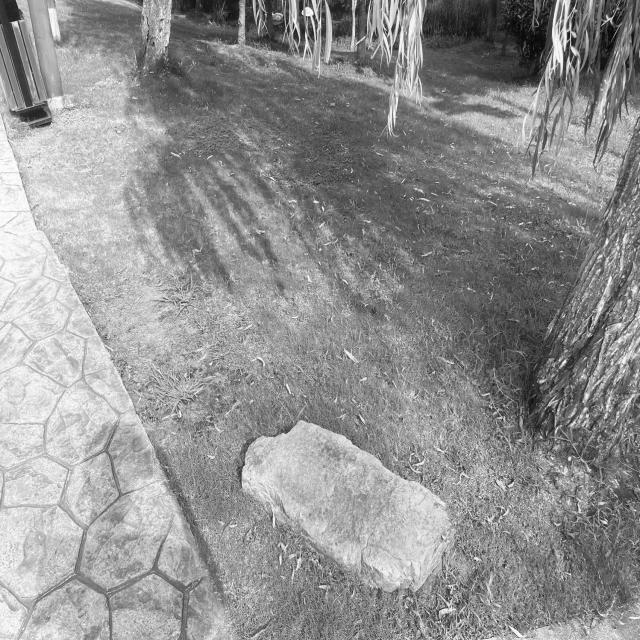Stone: (242, 421, 453, 591)
